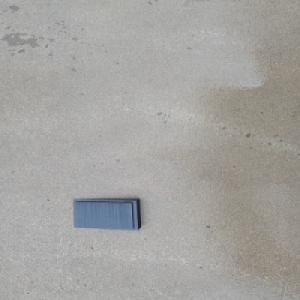PlasticPart: (71, 197, 142, 230)
